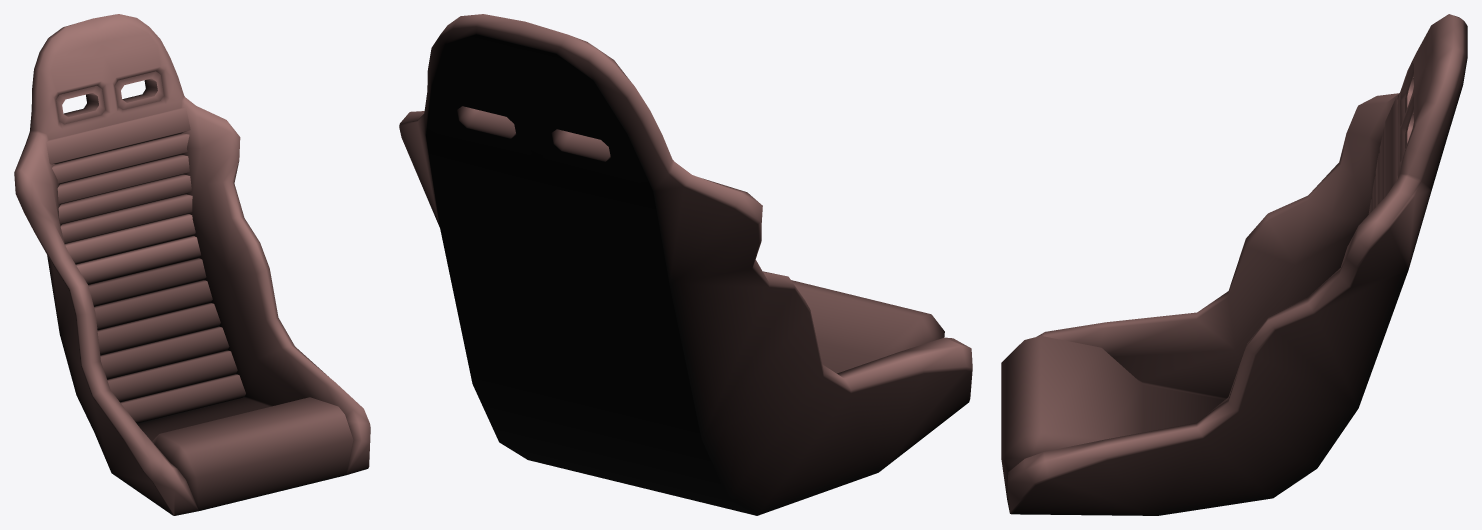
The model's file is MC_XJ220s_Seat_Trim.fbx.
The picture shows the model from 3 angles, left to right: view 1: azimuth 30°, elevation 25°; view 2: azimuth 150°, elevation 25°; view 3: azimuth 270°, elevation 25°; orthographic projection. The views are drawn at different scales.
Parts seen in each view (by area): view 1: MC_XJ220s_Seat_Trim; view 2: MC_XJ220s_Seat_Trim; view 3: MC_XJ220s_Seat_Trim.
Boxes of the visible parts, bbox=[...] form: MC_XJ220s_Seat_Trim: bbox=[14, 14, 370, 515]; MC_XJ220s_Seat_Trim: bbox=[399, 14, 972, 515]; MC_XJ220s_Seat_Trim: bbox=[1001, 14, 1467, 515].
Bounding box in the file's own units: 54.65 × 80.32 × 79.77.
